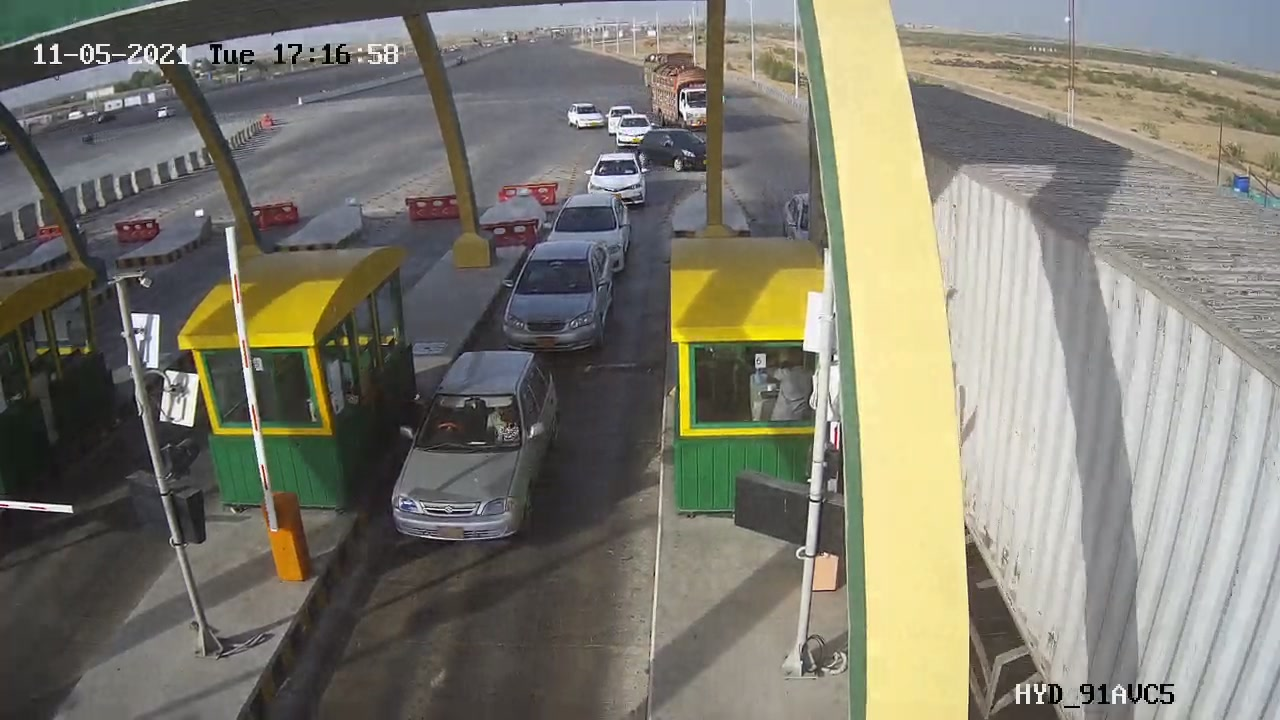F1: (363, 336, 581, 562), (490, 230, 630, 369)
